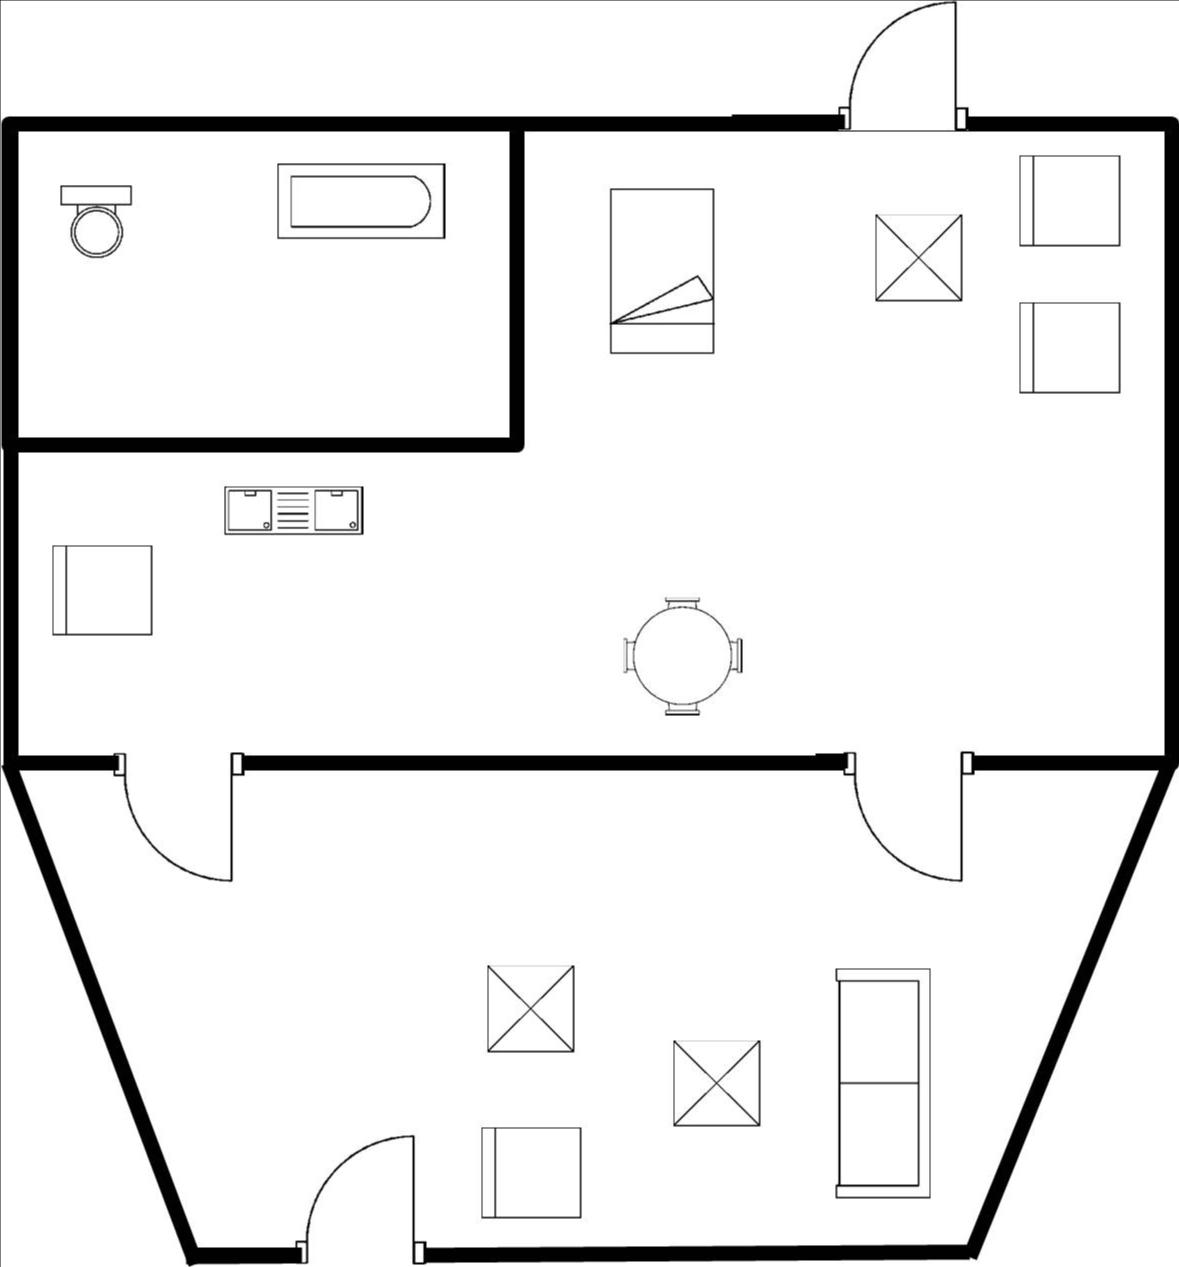sink: (214, 478, 375, 546)
